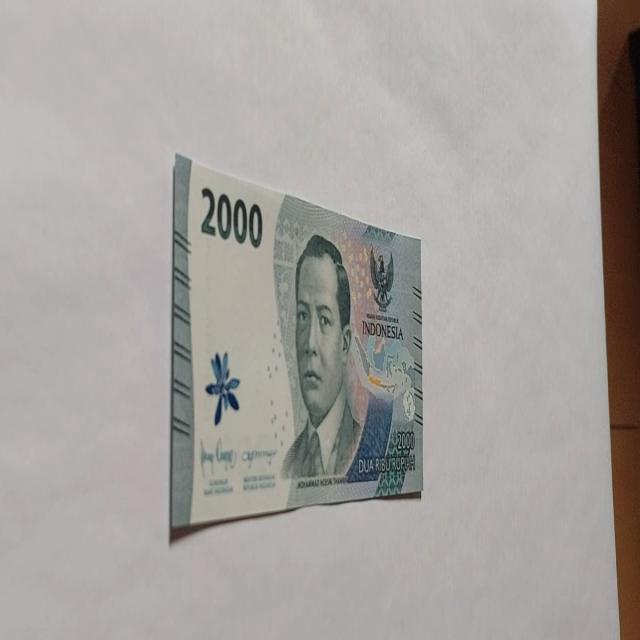dua ribu rupiah: (170, 151, 424, 538), (278, 232, 394, 494)
